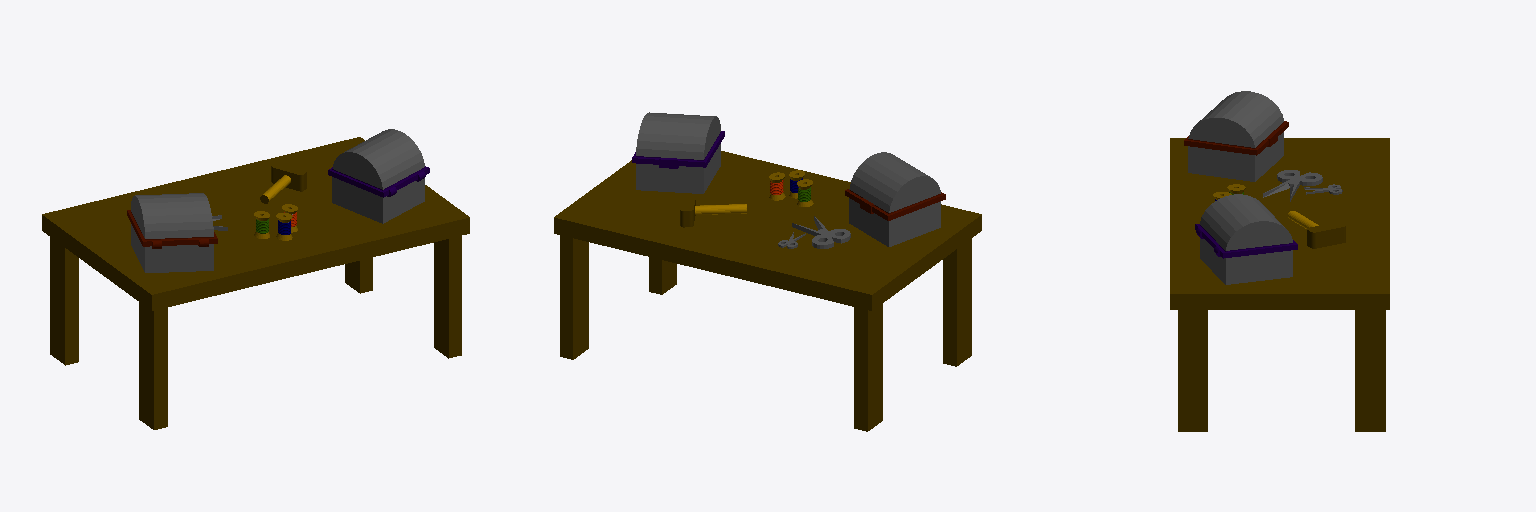
File: armorbench_tier_one.obj
3 views of the same model, side by side, from view 1: azimuth 30°, elevation 25°; view 2: azimuth 150°, elevation 25°; view 3: azimuth 270°, elevation 25° (orthographic).
Size of the model in its own units: 2.5 by 1.5 by 1.5.